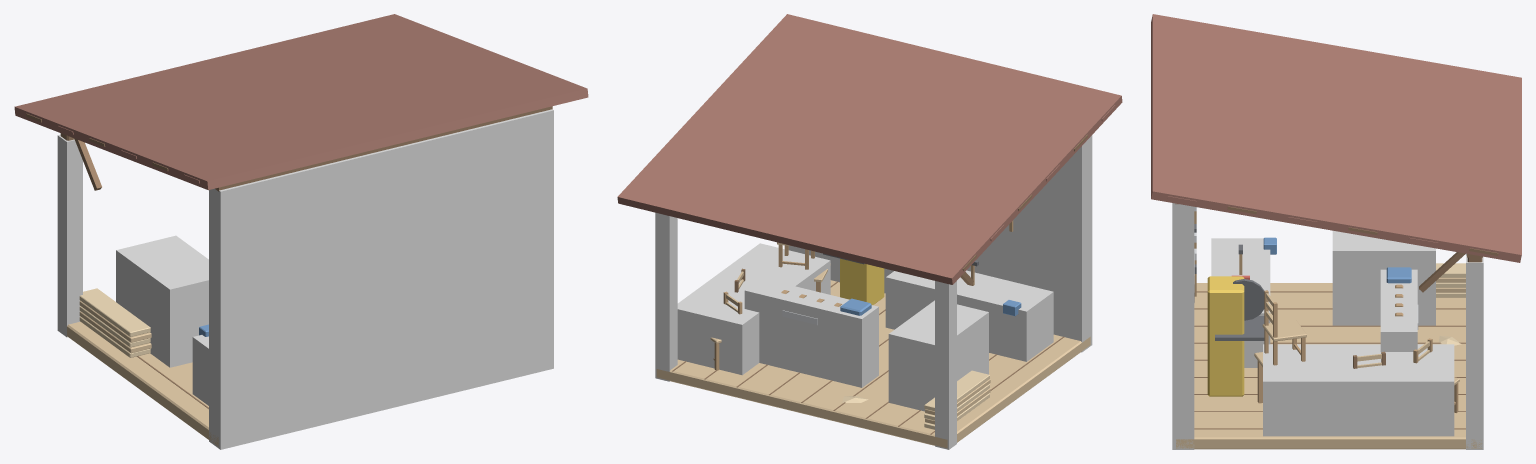
Rendered from Workshop.fbx.
3 views of the same model, side by side, from view 1: azimuth 30°, elevation 25°; view 2: azimuth 150°, elevation 25°; view 3: azimuth 270°, elevation 25° (orthographic). The views are drawn at different scales.
Parts seen in each view (by area): view 1: COL_Back, Base, COL_Planer, COL_PostF, COL_Bench; view 2: Base, COL_Back, COL_Lathe, COL_Output, COL_Bench, COL_Planer, COL_PostF.001, COL_PostF; view 3: Base, COL_Output, COL_Planer, COL_Back, COL_PostF.001, COL_Bench, COL_Lathe, Wheel.
Part boxes in pixels (x1,y1,x2,y2): COL_Back: (209,109,553,449); Base: (14,14,588,446); COL_Planer: (116,235,208,367); COL_PostF: (57,134,82,337); COL_Bench: (192,335,208,405); Base: (617,14,1122,448); COL_Back: (788,135,1092,352); COL_Lathe: (744,278,878,387); COL_Output: (677,243,830,375); COL_Bench: (885,270,1053,361); COL_Planer: (888,300,988,411); COL_PostF.001: (655,212,677,381); COL_PostF: (935,281,956,449); Base: (1151,14,1521,449); COL_Output: (1263,344,1454,436); COL_Planer: (1332,230,1435,325); COL_Back: (1172,203,1194,449); COL_PostF.001: (1466,255,1483,449); COL_Bench: (1211,238,1270,367); COL_Lathe: (1380,269,1417,351); Wheel: (1233,279,1264,320).
Size of the model in its own units: 5.72 by 4.05 by 5.03.
